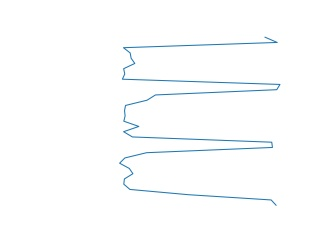majorRiverChannelBar: (117, 36, 285, 205)
